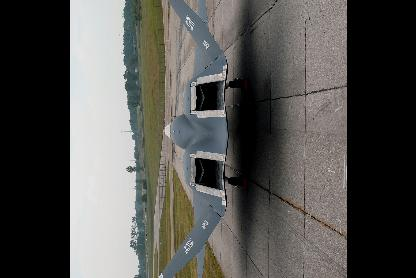US2: (144, 0, 242, 277)
